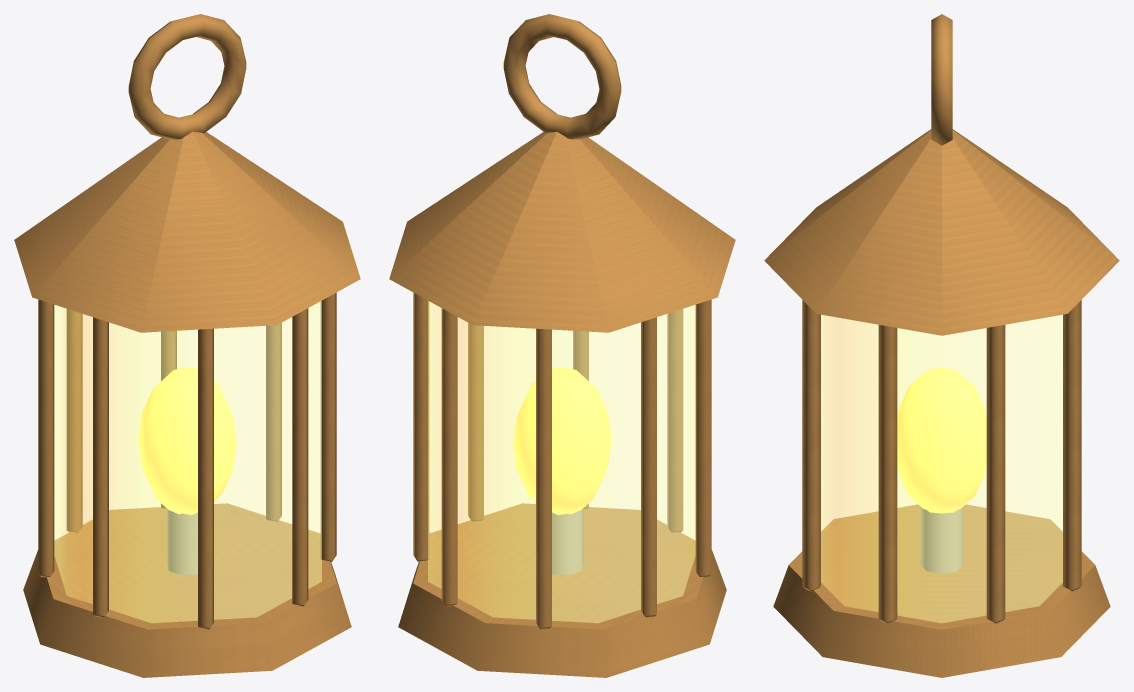
File: lantern.glb
The picture shows the model from 3 angles, left to right: view 1: azimuth 30°, elevation 25°; view 2: azimuth 150°, elevation 25°; view 3: azimuth 270°, elevation 25°; orthographic projection.
Visible parts, largest first — view 1: lantern; view 2: lantern; view 3: lantern.
Part boxes in pixels (x1,y1,x2,y2): lantern: (14,14,360,677); lantern: (389,14,735,677); lantern: (764,14,1119,677).
Bounding box in the file's own units: 0.116 × 0.2109 × 0.116.
4 materials, 1 textured.
